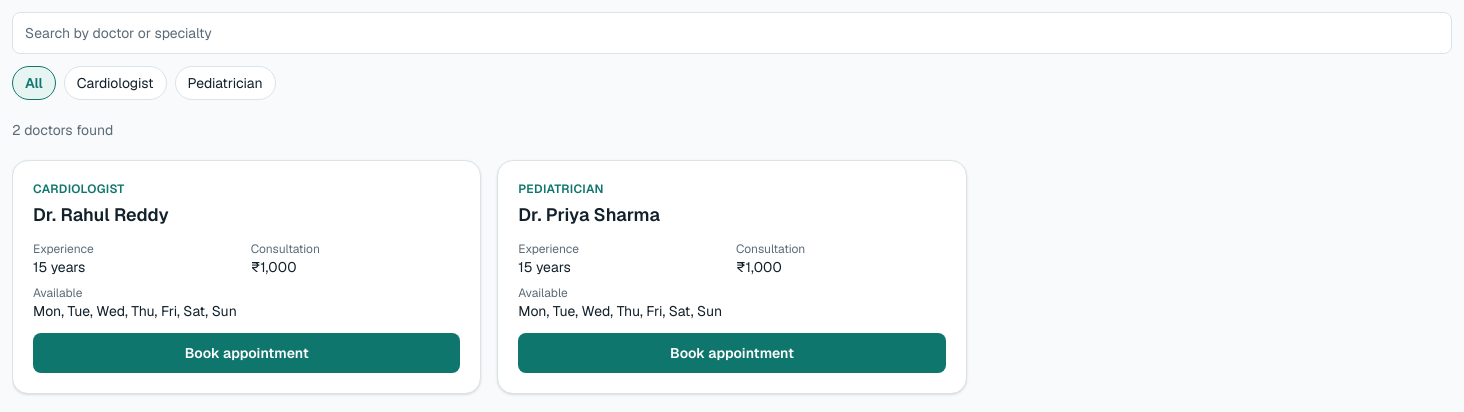
DoctorBrowser › filters by specialty and search text
Expected: the text "2 doctors found" is shown, top-left (12, 121), bottom-right (113, 139)
Step 1. Click the button "Pediatrician" → point(225, 83), box top-left (174, 66), bottom-right (276, 100)
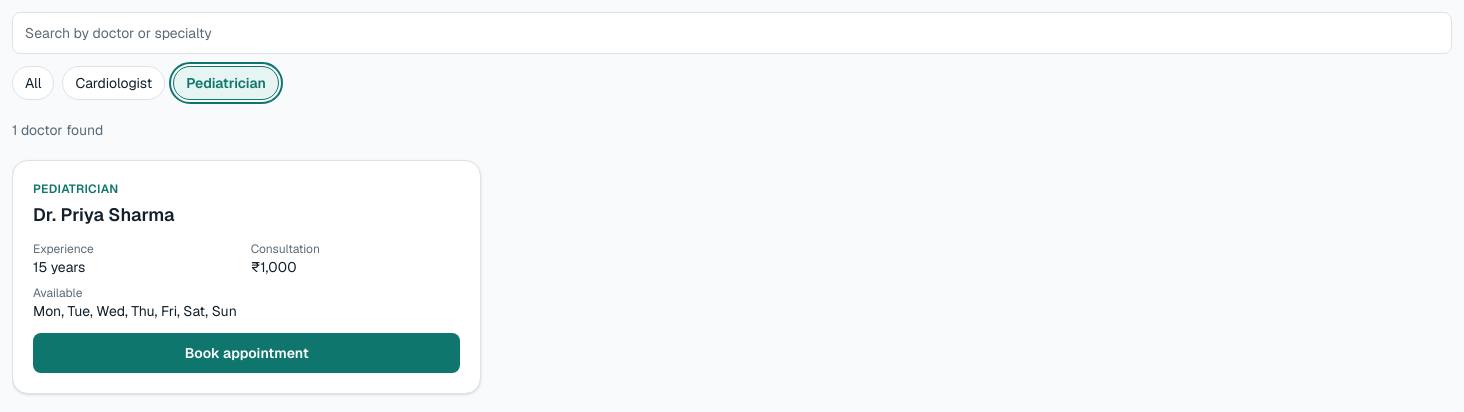
Expected: the heading "Dr. Priya Sharma" is shown, top-left (33, 203), bottom-right (174, 226)
Now the text "1 doctor found" is shown, box top-left (12, 121), bottom-right (103, 139)
Step 2. Type "zzz" into the search field named "search doctors" → point(732, 33), box top-left (12, 12), bottom-right (1452, 54)
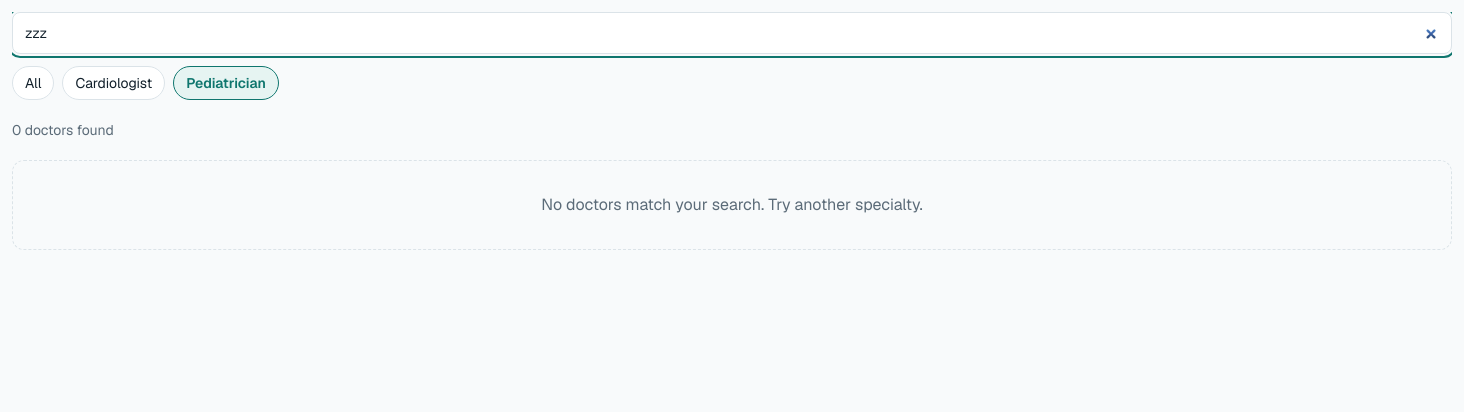
Now the text "No doctors match your search. Try another specialty." is shown, box top-left (12, 160), bottom-right (1452, 250)
